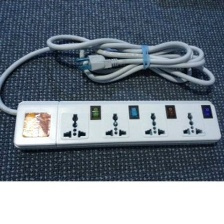three_eye_plug: (7, 92, 224, 153)
